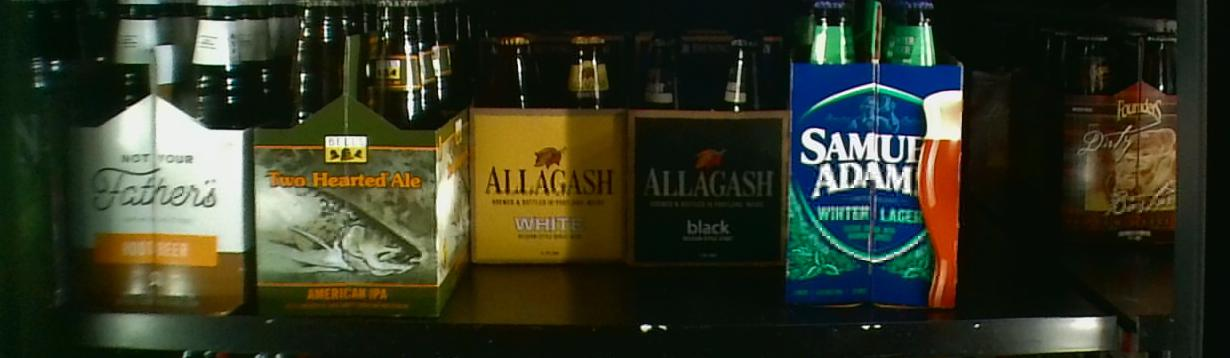bottle: (253, 9, 471, 312), (79, 1, 255, 313), (790, 1, 960, 312), (628, 26, 788, 270), (474, 30, 626, 268)
